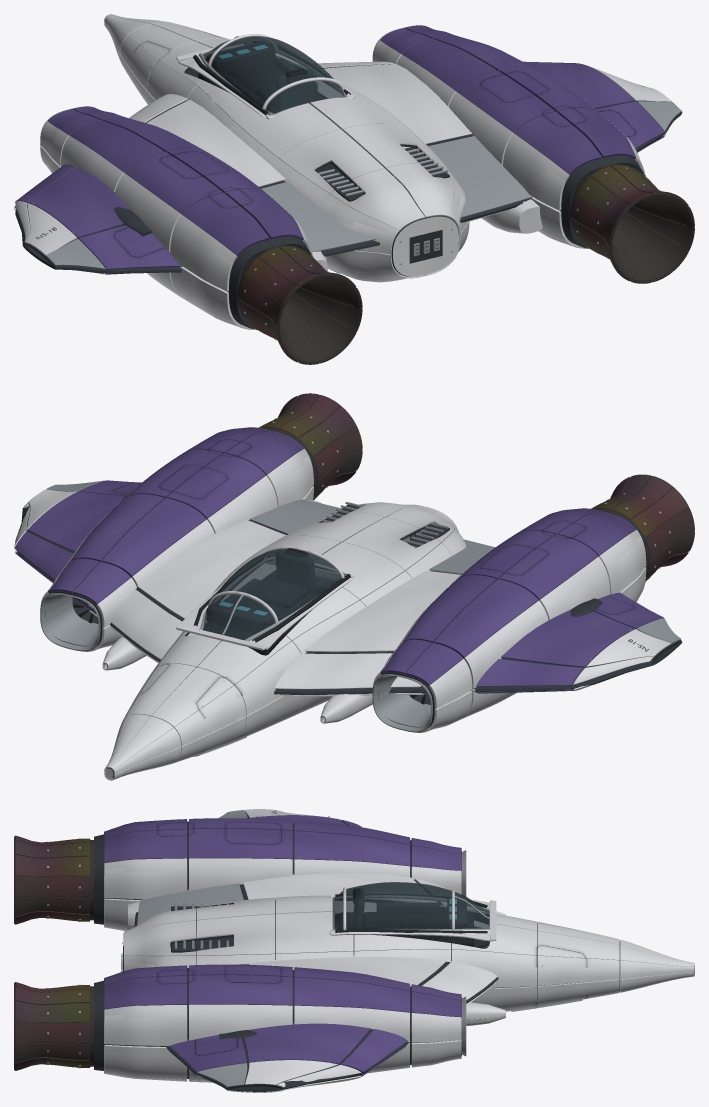
The picture shows the model from 3 angles, top to bottom: view 1: azimuth 30°, elevation 25°; view 2: azimuth 150°, elevation 25°; view 3: azimuth 270°, elevation 25°; orthographic projection. The views are drawn at different scales.
Parts seen in each view (by area): view 1: Thin laminated canopy glazing, Fitted lifting skin.019, Recessed convergent nozzle liner, Recessed convergent nozzle liner.001, Fitted lifting skin.020, Fitted lifting skin.001, Fitted lifting skin.004, Fuselage fitted skin 01.2, Removable nacelle cowl.010, Removable nacelle cowl.042, Fuselage fitted skin 02.2, Removable nacelle cowl.002 (+69 smaller); view 2: Thin laminated canopy glazing, Fitted lifting skin.019, Fitted lifting skin.001, Fitted lifting skin.004, Removable nacelle cowl.018, Fitted lifting skin, Removable nacelle cowl.050, Removable nacelle cowl.010, Removable nacelle cowl.042, Fitted lifting skin.022, Fitted lifting skin.018, Machined intake lip and duct.001 (+74 smaller); view 3: Thin laminated canopy glazing, Fitted lifting skin.022, Removable nacelle cowl.032, Fitted lifting skin.001, Removable nacelle cowl, Removable nacelle cowl.009, Removable nacelle cowl.041, Removable nacelle cowl.017, Removable nacelle cowl.049, Removable nacelle cowl.040, Fitted lifting skin.019, Fuselage fitted skin 02.1 (+70 smaller).
Boxes of the visible parts, left/top/right/bottom form: Thin laminated canopy glazing: left=203, top=36, right=344, bottom=114; Fitted lifting skin.019: left=315, top=64, right=471, bottom=148; Recessed convergent nozzle liner: left=279, top=275, right=360, bottom=362; Recessed convergent nozzle liner.001: left=612, top=194, right=692, bottom=281; Fitted lifting skin.020: left=409, top=136, right=532, bottom=217; Fitted lifting skin.001: left=146, top=100, right=285, bottom=186; Fitted lifting skin.004: left=28, top=167, right=130, bottom=237; Fuselage fitted skin 01.2: left=279, top=129, right=384, bottom=193; Removable nacelle cowl.010: left=125, top=151, right=222, bottom=214; Removable nacelle cowl.042: left=457, top=70, right=554, bottom=133; Fuselage fitted skin 02.2: left=237, top=103, right=340, bottom=157; Removable nacelle cowl.002: left=182, top=192, right=269, bottom=256; Thin laminated canopy glazing: left=202, top=548, right=344, bottom=639; Fitted lifting skin.019: left=137, top=520, right=285, bottom=622; Fitted lifting skin.001: left=305, top=570, right=461, bottom=652; Fitted lifting skin.004: left=501, top=610, right=634, bottom=667; Removable nacelle cowl.018: left=434, top=579, right=538, bottom=658; Fitted lifting skin: left=274, top=653, right=421, bottom=689; Removable nacelle cowl.050: left=102, top=498, right=205, bottom=577; Removable nacelle cowl.010: left=499, top=534, right=597, bottom=600; Removable nacelle cowl.042: left=167, top=453, right=265, bottom=519; Fitted lifting skin.022: left=28, top=491, right=124, bottom=551; Fitted lifting skin.018: left=89, top=589, right=197, bottom=659; Machined intake lip and duct.001: left=40, top=593, right=100, bottom=651; Thin laminated canopy glazing: left=332, top=882, right=489, bottom=929; Fitted lifting skin.022: left=244, top=1023, right=370, bottom=1064; Removable nacelle cowl.032: left=104, top=1005, right=187, bottom=1046; Fitted lifting skin.001: left=243, top=872, right=436, bottom=913; Removable nacelle cowl: left=104, top=858, right=187, bottom=899; Removable nacelle cowl.009: left=189, top=828, right=292, bottom=859; Removable nacelle cowl.041: left=189, top=975, right=292, bottom=1005; Removable nacelle cowl.017: left=294, top=831, right=409, bottom=866; Removable nacelle cowl.049: left=294, top=977, right=409, bottom=1012; Removable nacelle cowl.040: left=189, top=1004, right=292, bottom=1040; Fitted lifting skin.019: left=249, top=956, right=445, bottom=986; Fuselage fitted skin 02.1: left=275, top=912, right=353, bottom=953.
Bounding box in the file's own units: 3.29 × 0.7099 × 3.42.
9 materials, 3 textured.
